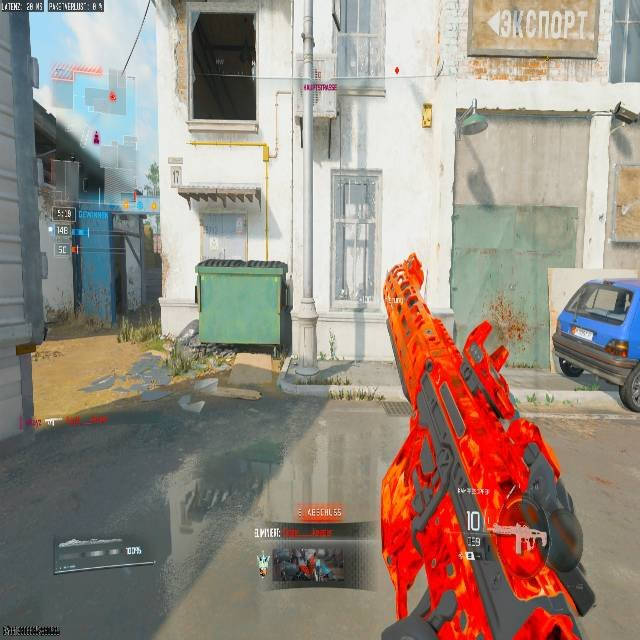player: (327, 328, 337, 357)
